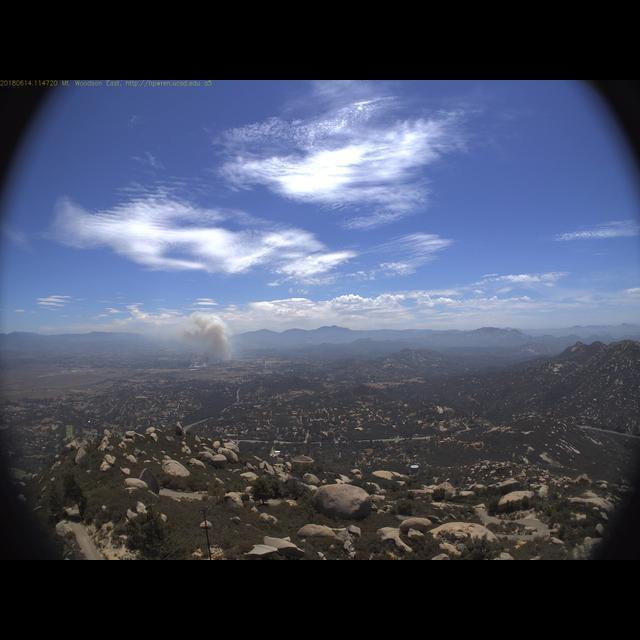Smoke: (130, 308, 237, 367)
